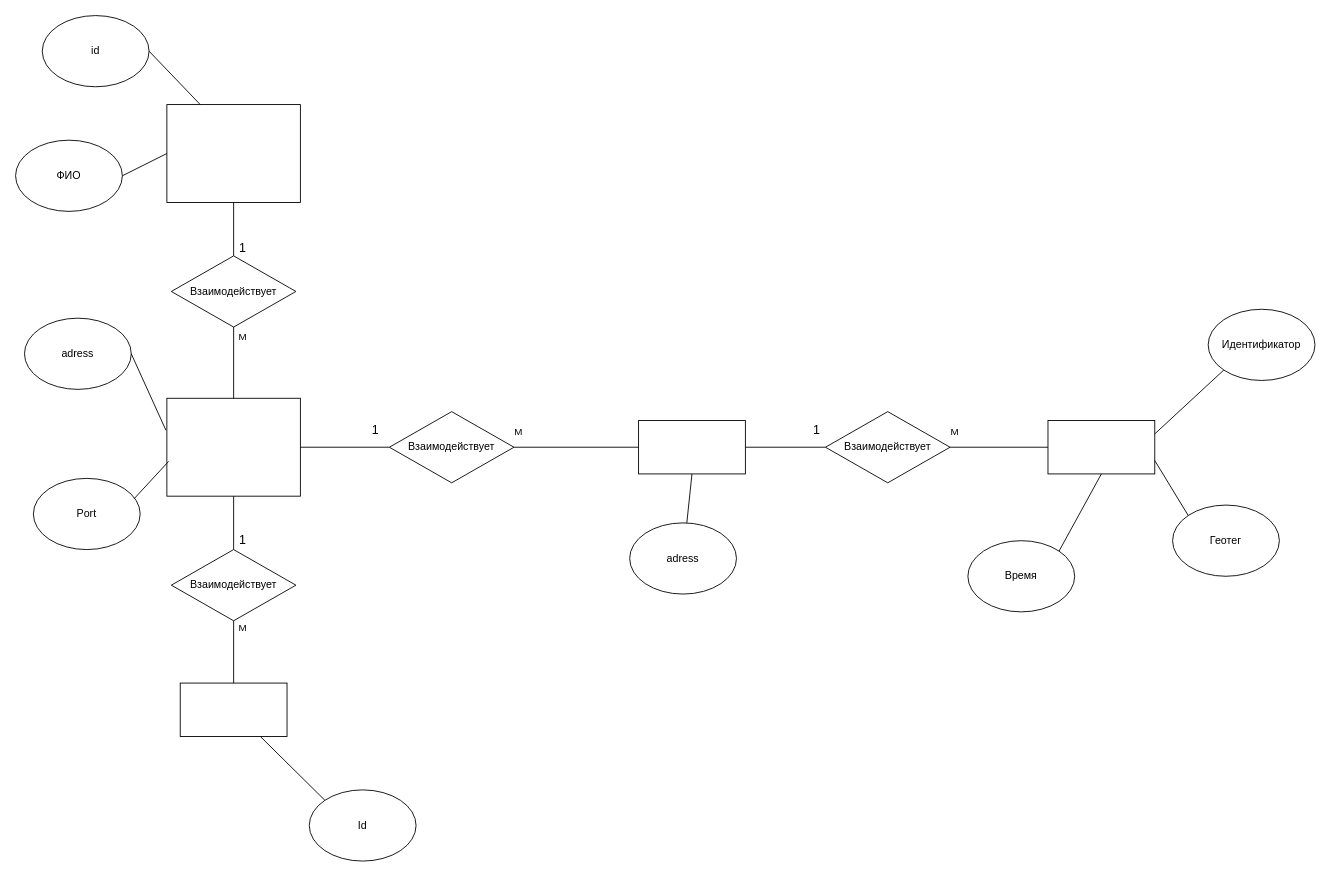
The diagram is 1331 pixels wide and 877 high, and some of its shapes have lost their labels. Here are the shapes that lost their labels. From the top down, the centre of each, then its label:
At point 233,153: "Пользователь".
At point 233,446: "Сервер".
At point 691,447: "База данных".
At point 1101,447: "Фото".
At point 233,709: "Fanet".
